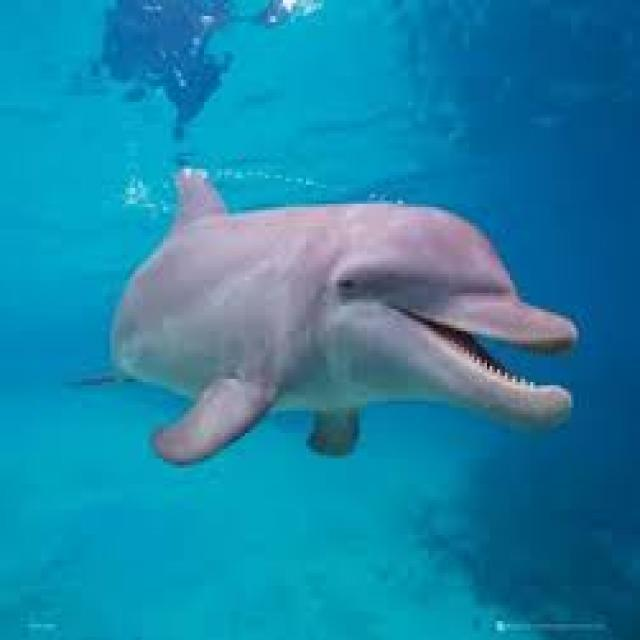dolphin: (107, 166, 594, 504)
